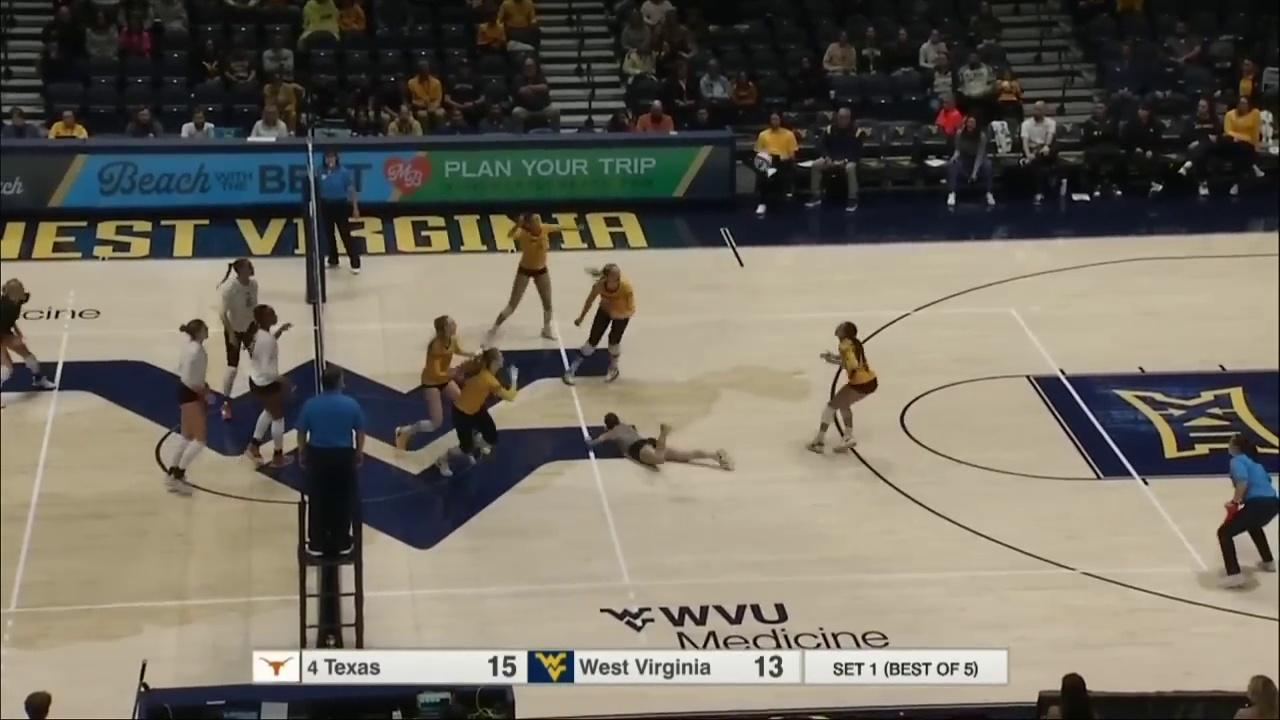player: (485, 210, 583, 337), (391, 315, 483, 449), (801, 322, 879, 455), (439, 351, 519, 479), (215, 260, 279, 417), (582, 412, 735, 472), (563, 267, 639, 386), (247, 305, 297, 467), (165, 321, 210, 498), (0, 277, 56, 411)
refree: (298, 369, 366, 555), (1215, 434, 1280, 587), (314, 153, 365, 274), (0, 693, 87, 720)
